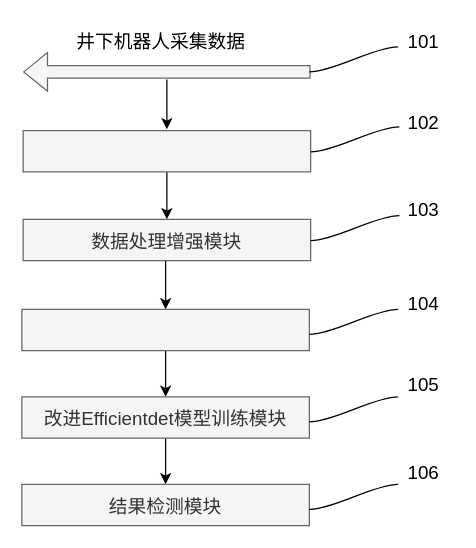
The diagram is 476 pixels wide and 548 high, and some of its shapes have lost their labels. Each missing label, with the box of its shape:
数据收集模块: (22, 129, 311, 172)
数据集构建模块: (21, 308, 309, 351)
